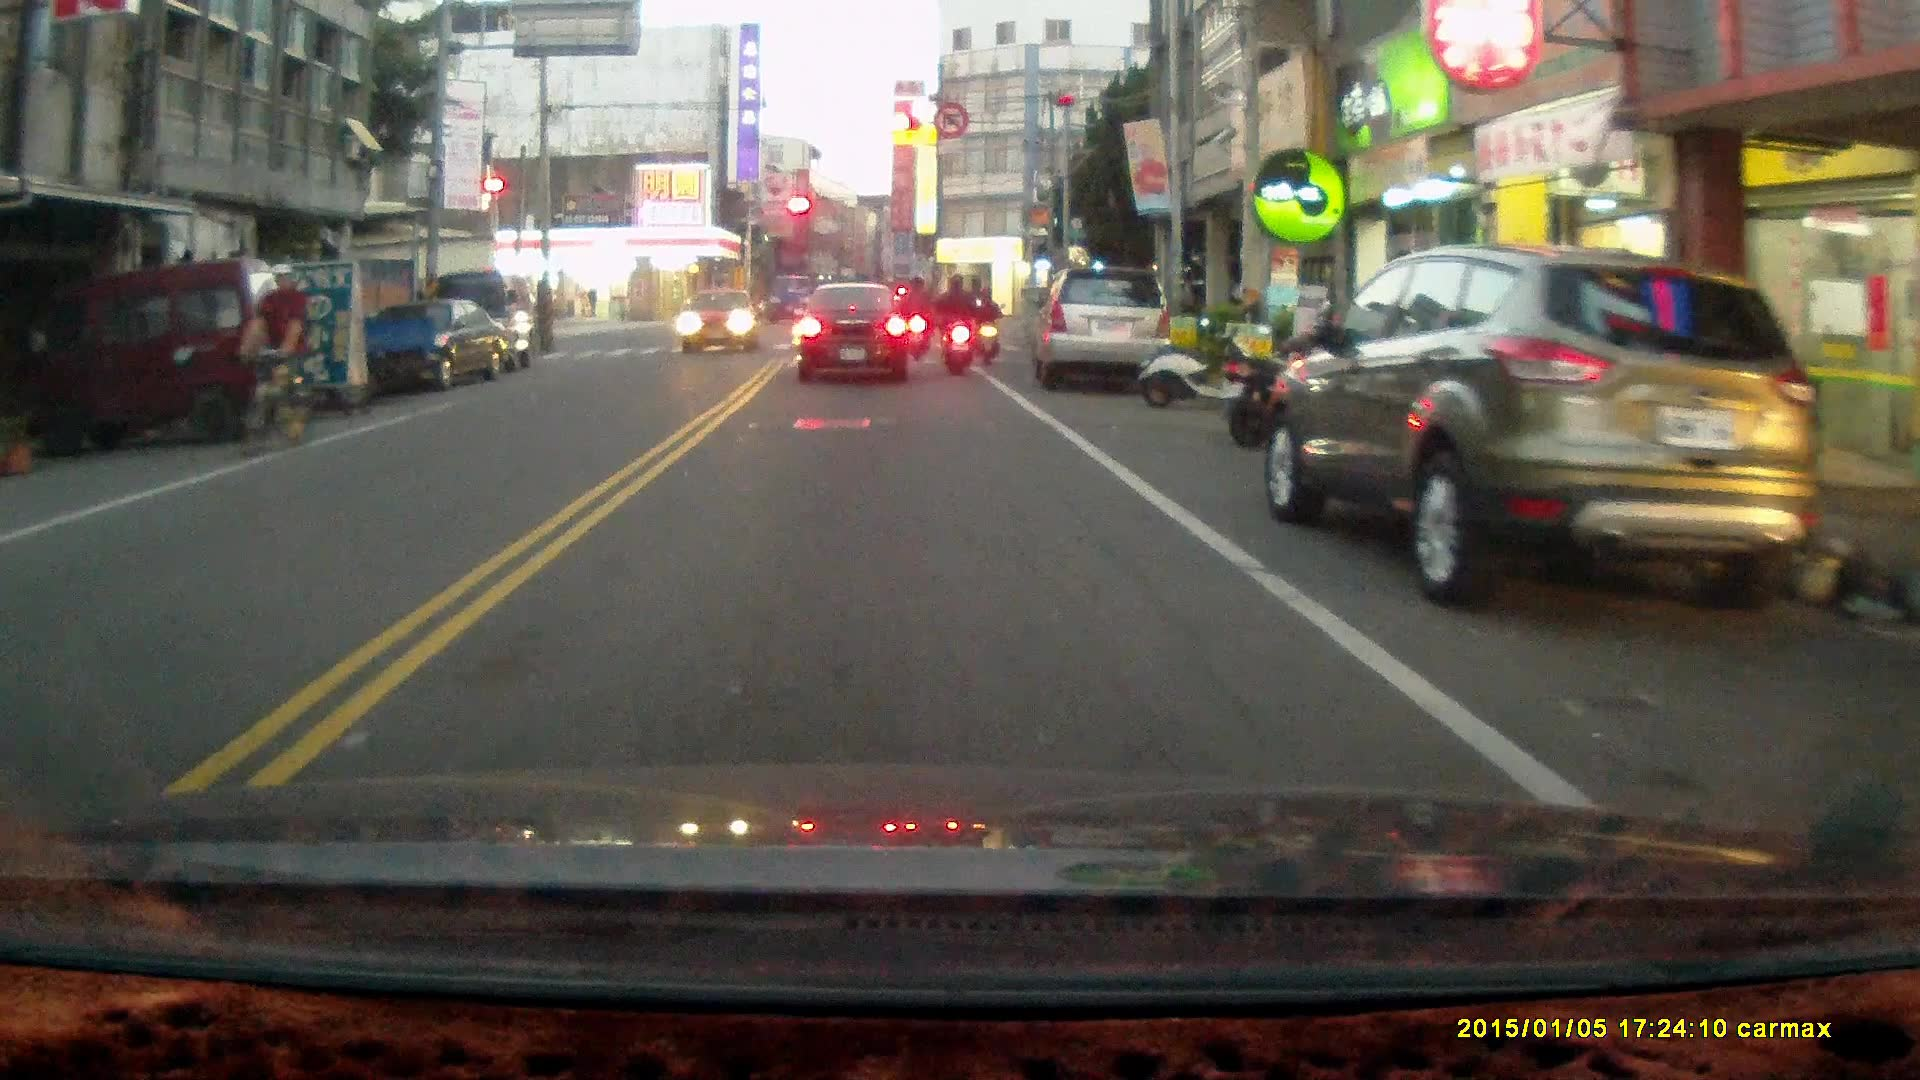rider: (233, 261, 316, 461), (934, 271, 983, 378), (896, 273, 933, 363), (973, 284, 1004, 366)
vehicle: (1268, 245, 1826, 613), (15, 259, 302, 449), (1031, 266, 1177, 396), (366, 296, 507, 394), (800, 281, 917, 388), (684, 287, 765, 357)
